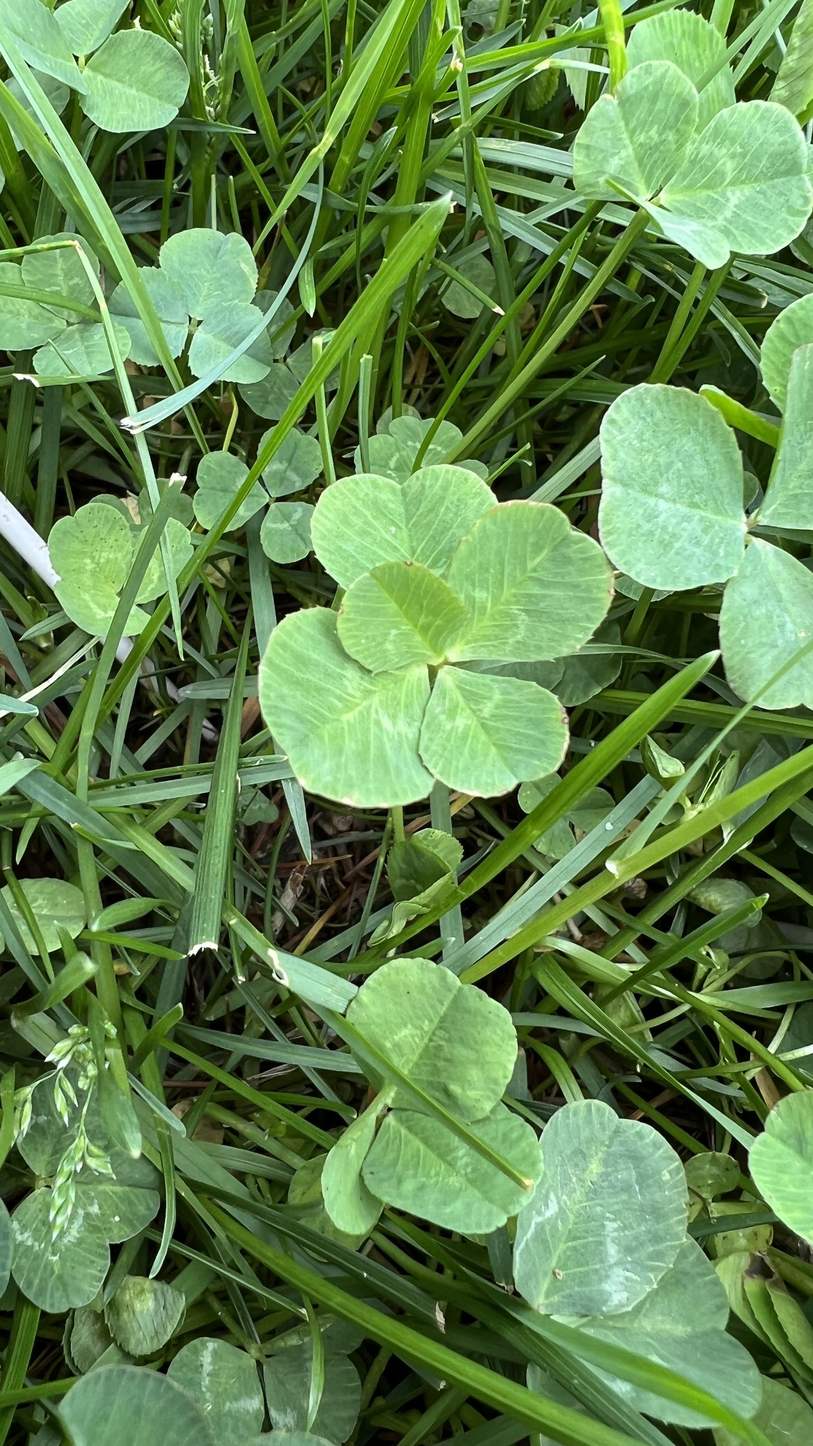5-Leaf-Clovers: (259, 349, 454, 991)
